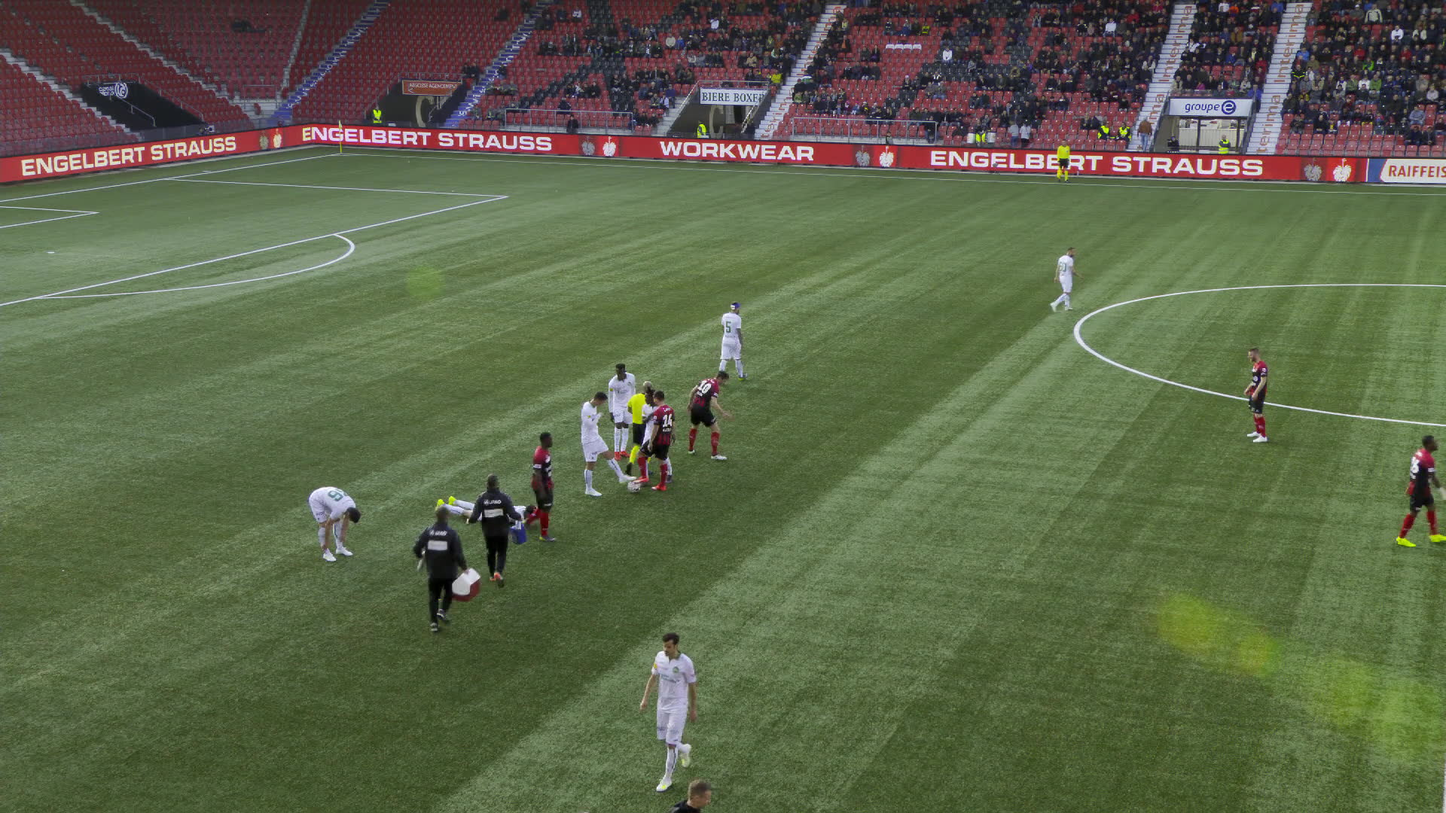ball: (412, 507, 467, 633), (466, 473, 520, 587), (627, 481, 639, 492)
player: (640, 632, 697, 790), (581, 391, 634, 495), (1396, 434, 1445, 546), (632, 390, 675, 489), (685, 370, 731, 459), (308, 486, 360, 562), (526, 431, 556, 541), (641, 385, 673, 483), (607, 361, 636, 461), (436, 496, 535, 522), (1242, 347, 1267, 442), (718, 301, 748, 380), (1050, 247, 1081, 310)
referee: (624, 380, 654, 476), (1057, 139, 1069, 183)
